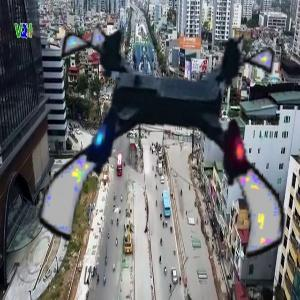drone: (46, 19, 299, 272)
